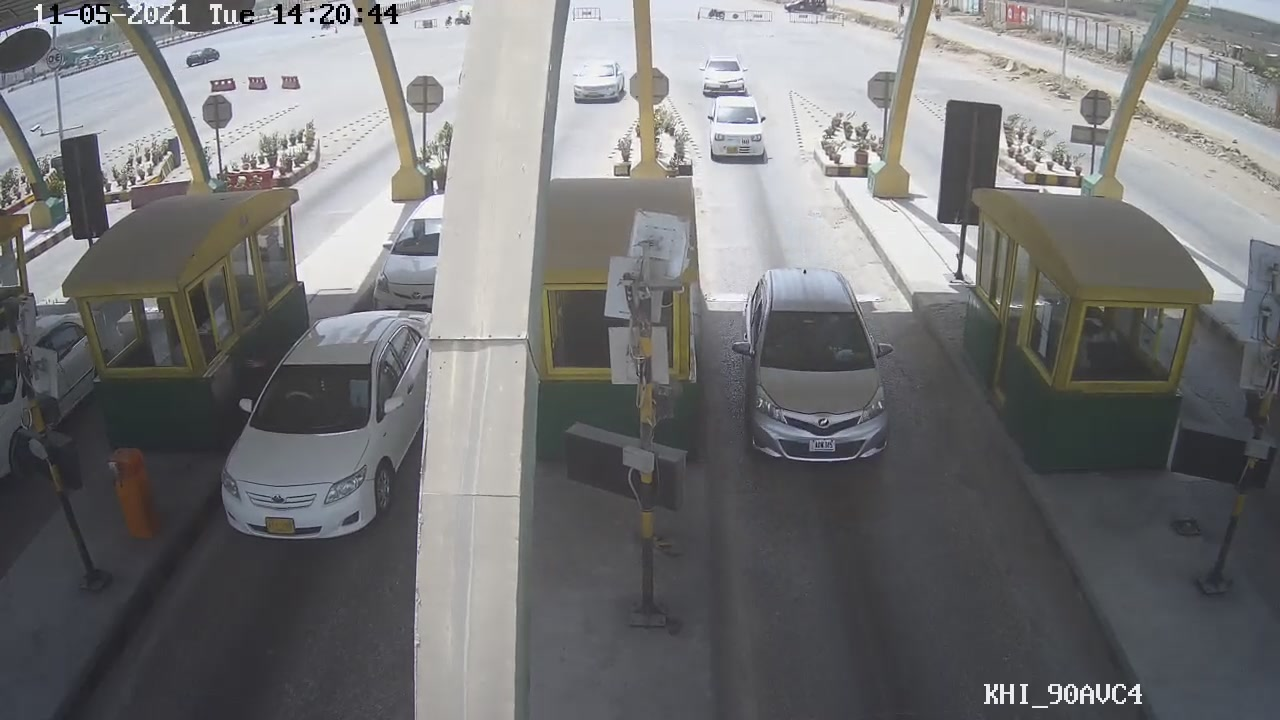F1: (717, 255, 916, 477)
